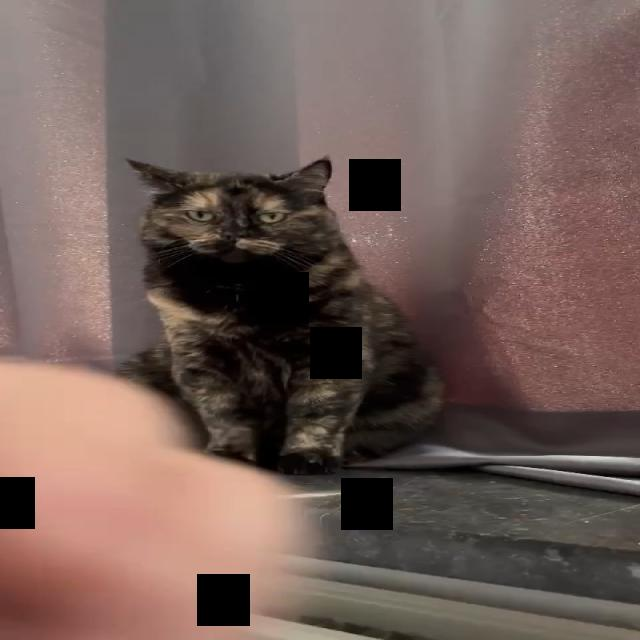authorized: (116, 154, 447, 475)
